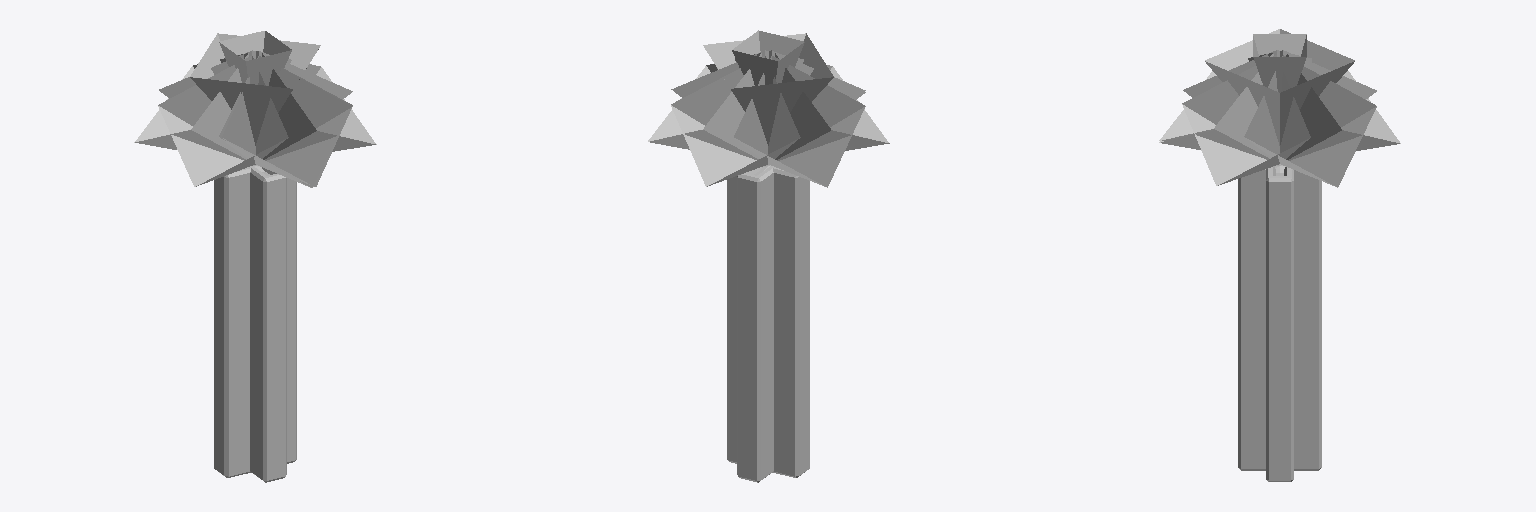
File: cross_spikes.obj
3 views of the same model, side by side, from view 1: azimuth 30°, elevation 25°; view 2: azimuth 150°, elevation 25°; view 3: azimuth 270°, elevation 25° (orthographic).
Visible parts, largest first — view 1: Spikes_cross_Spikes; view 2: Spikes_cross_Spikes; view 3: Spikes_cross_Spikes.
Part boxes in pixels (x1,y1,x2,y2): Spikes_cross_Spikes: (134, 31, 376, 482); Spikes_cross_Spikes: (648, 30, 889, 482); Spikes_cross_Spikes: (1159, 29, 1400, 481).
Size of the model in its own units: 0.629 by 1.38 by 0.7203.